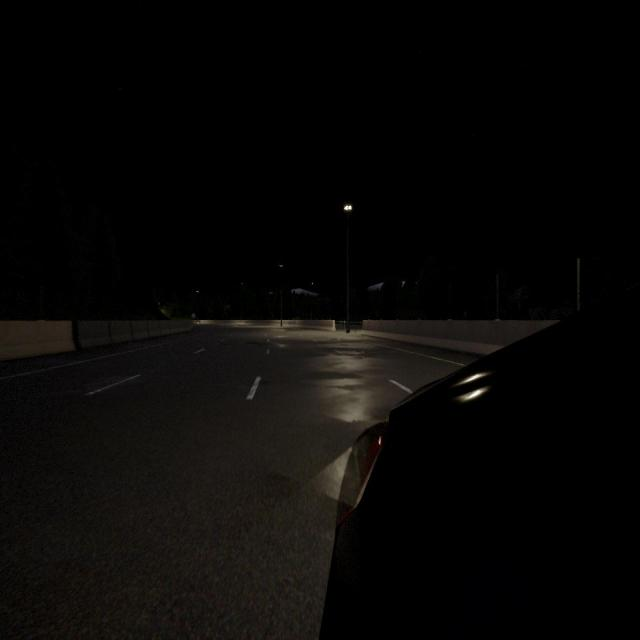Traffic_Signs: (192, 313, 196, 318)
Vehicle: (320, 286, 640, 637)
